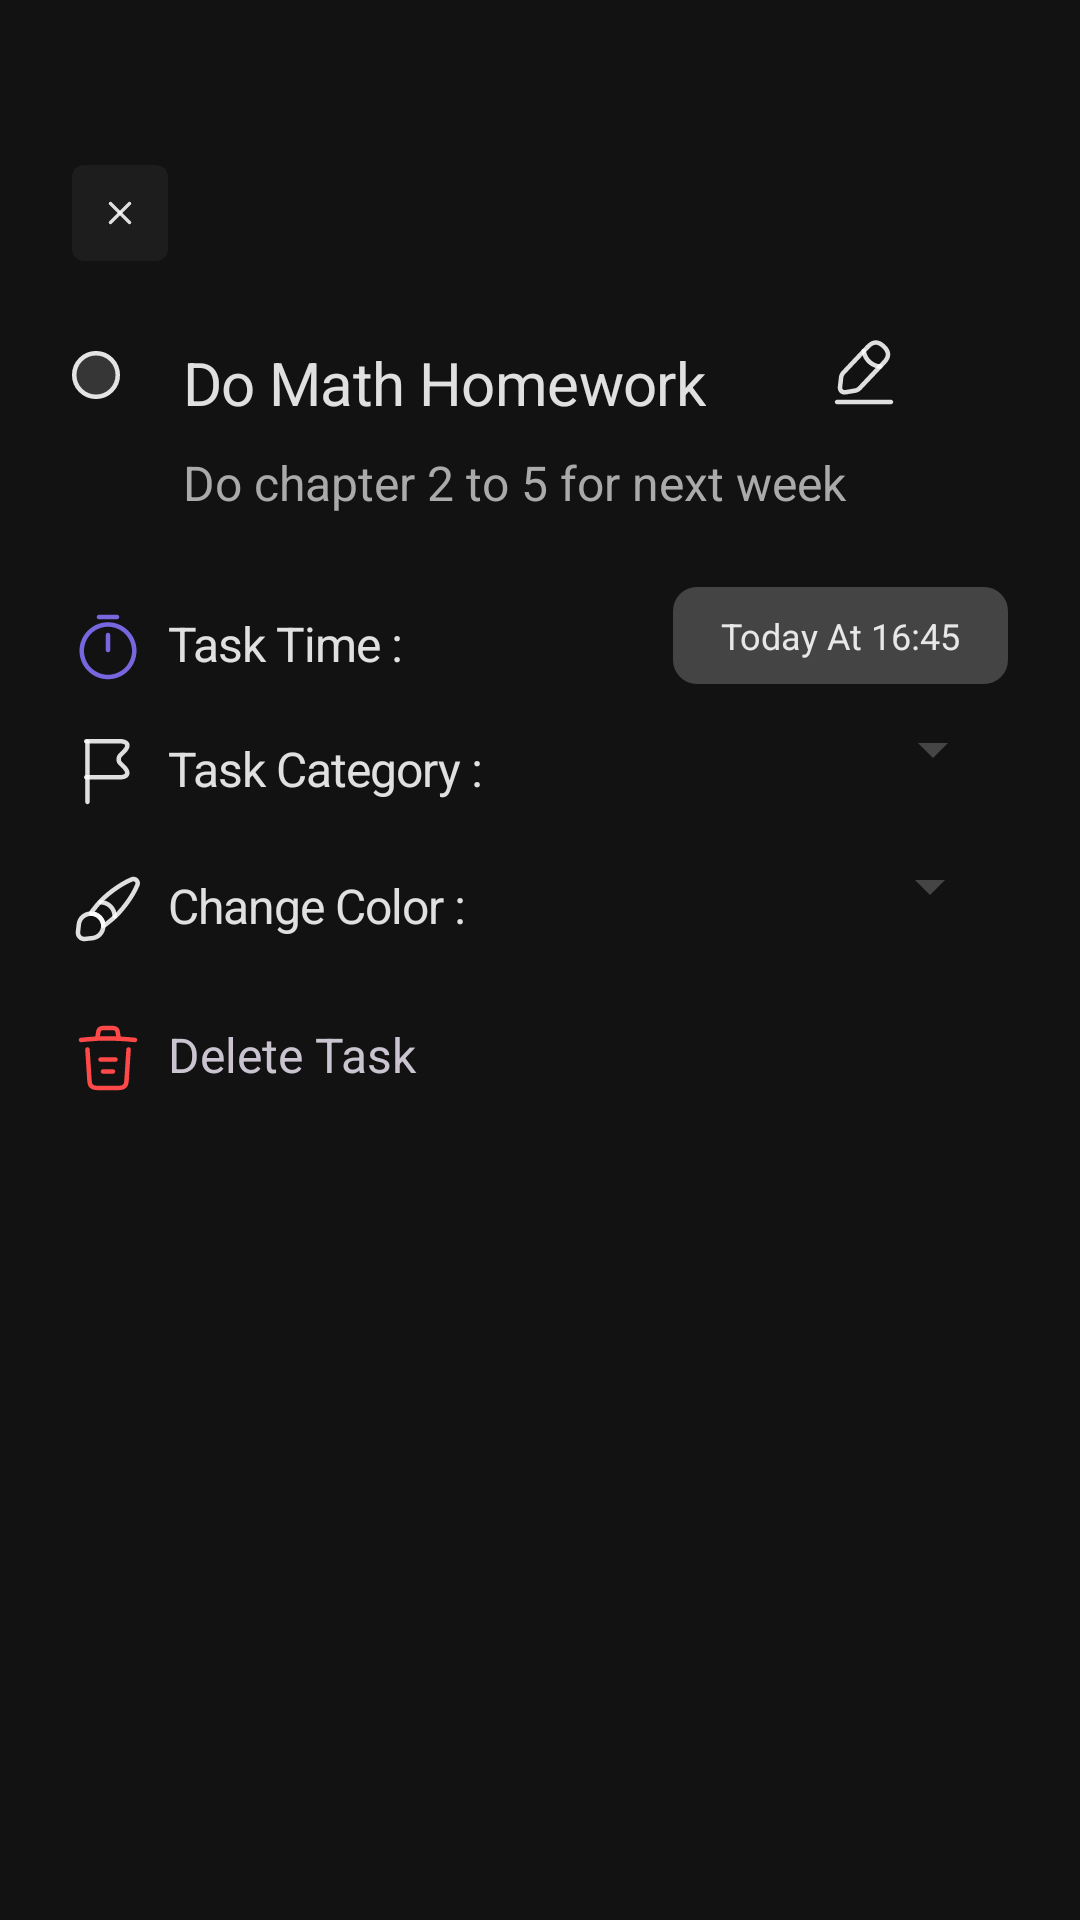

Screen size 1080*1920. Icon name, then its center in pixels as point (x, y):
brush: point (107, 909)
cancel: point (120, 213)
edit: point (864, 372)
flag: point (107, 772)
timer: point (108, 647)
trash: point (108, 1058)
